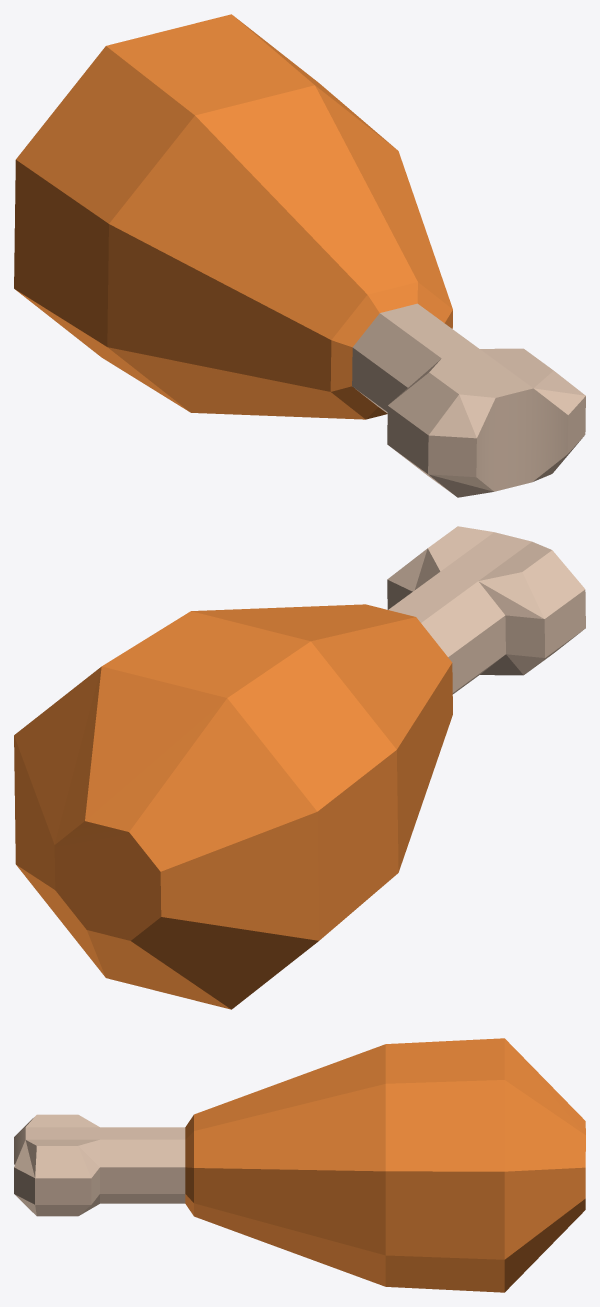
File: chicken-leg.fbx
3 renders of one model, top to bottom at view 1: azimuth 30°, elevation 25°; view 2: azimuth 150°, elevation 25°; view 3: azimuth 270°, elevation 25°, orthographic. The views are drawn at different scales.
Parts seen in each view (by area): view 1: chicken-leg; view 2: chicken-leg; view 3: chicken-leg.
Part boxes in pixels (x1,y1,x2,y2): chicken-leg: [14, 14, 585, 497]; chicken-leg: [14, 526, 585, 1009]; chicken-leg: [14, 1038, 585, 1292].
Bounding box in the file's own units: 72.64 × 70.85 × 171.
1 material, 1 textured.
